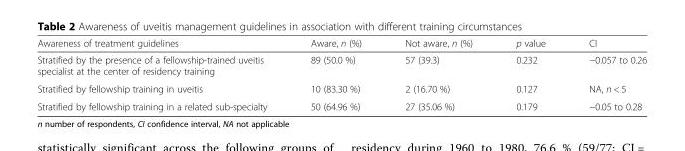table: (36, 37, 646, 111)
table column: (36, 37, 288, 111), (382, 37, 493, 111), (288, 37, 382, 111), (566, 37, 646, 111), (493, 37, 566, 111)
table column header: (36, 37, 646, 50)
table row: (36, 50, 646, 79), (36, 79, 646, 97), (36, 97, 646, 111), (36, 37, 646, 50)
